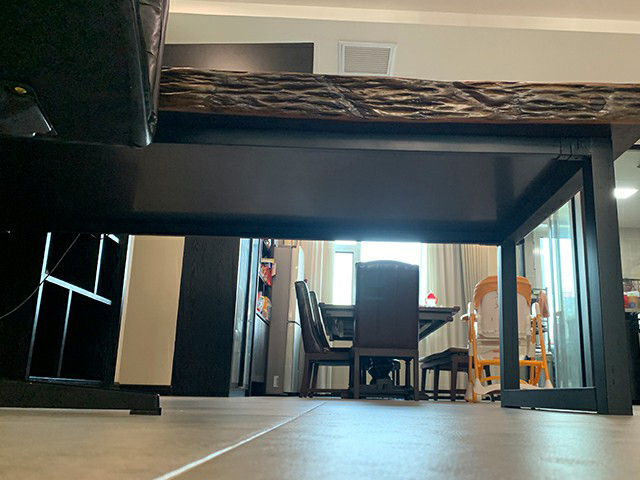cabinet: (171, 233, 274, 398)
stool: (349, 259, 420, 403), (294, 281, 356, 400), (419, 346, 495, 403)
table: (131, 64, 639, 414)
